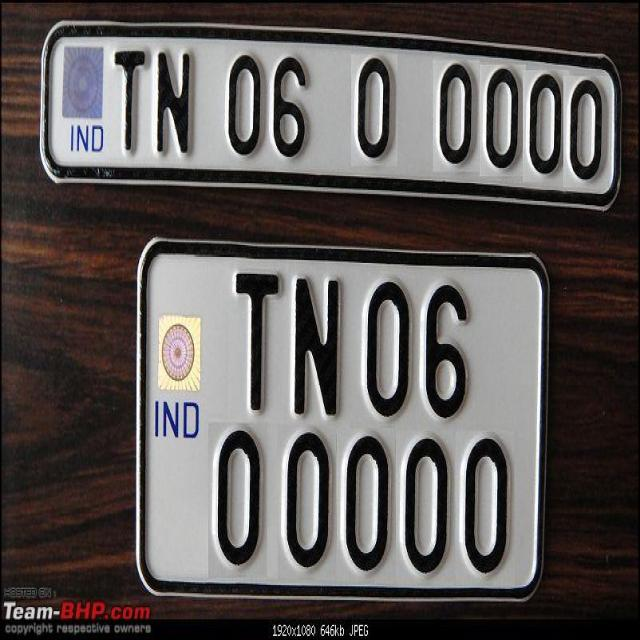plate: (135, 233, 548, 608), (37, 13, 625, 218)
